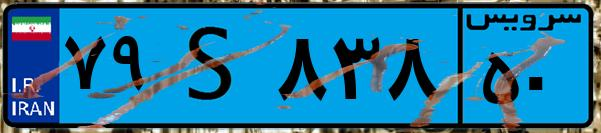0: (525, 38, 570, 115)
3: (330, 28, 385, 110)
5: (475, 38, 525, 113)
7: (57, 26, 110, 100)
8: (270, 28, 330, 110), (385, 28, 445, 110)
9: (110, 28, 158, 98)
S: (158, 12, 270, 120)
